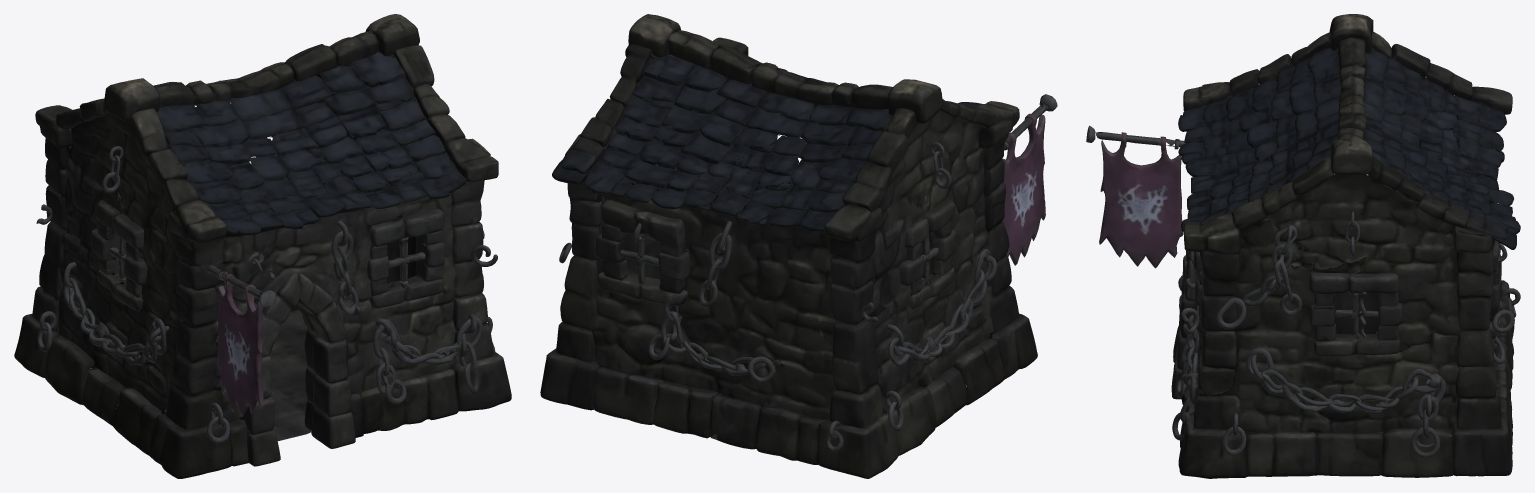
File: shop-sabotage.glb
The picture shows the model from 3 angles, left to right: view 1: azimuth 30°, elevation 25°; view 2: azimuth 150°, elevation 25°; view 3: azimuth 270°, elevation 25°; orthographic projection. The views are drawn at different scales.
Parts seen in each view (by area): view 1: world; view 2: world; view 3: world.
Part boxes in pixels (bbox=[...]): world: bbox=[14, 14, 511, 478]; world: bbox=[540, 14, 1057, 478]; world: bbox=[1086, 14, 1520, 478].
Bounding box in the file's own units: 0.8891 × 0.8115 × 0.9989.
Materials: 1 (1 with a texture image).
